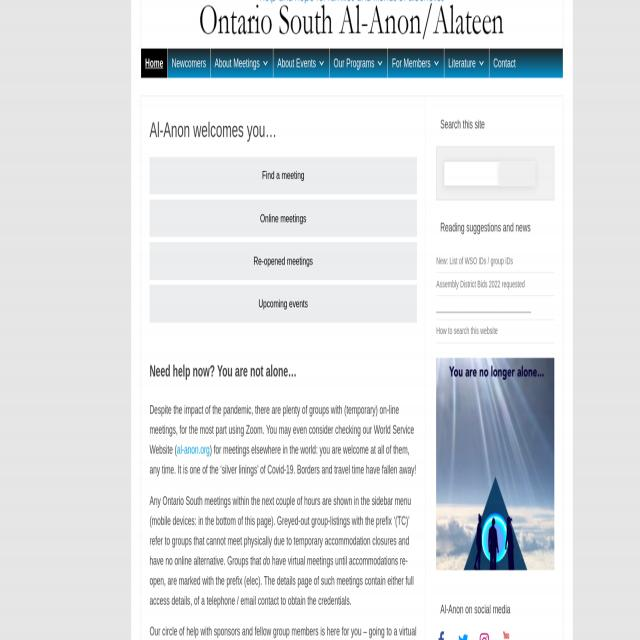button: (436, 359, 554, 570), (149, 157, 417, 195), (149, 200, 417, 238), (149, 242, 417, 280), (149, 285, 417, 323), (211, 49, 273, 78), (330, 49, 388, 78), (273, 49, 329, 78), (388, 49, 444, 78), (444, 49, 488, 78), (168, 49, 210, 78), (489, 49, 520, 78), (141, 49, 167, 78), (496, 624, 515, 640), (474, 625, 494, 640), (454, 626, 471, 640), (434, 625, 449, 640)
field: (444, 161, 536, 186)
